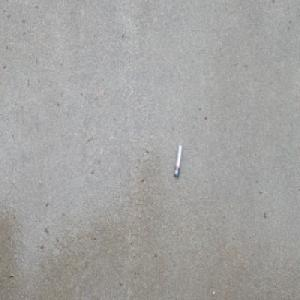Battery: (174, 144, 182, 179)
